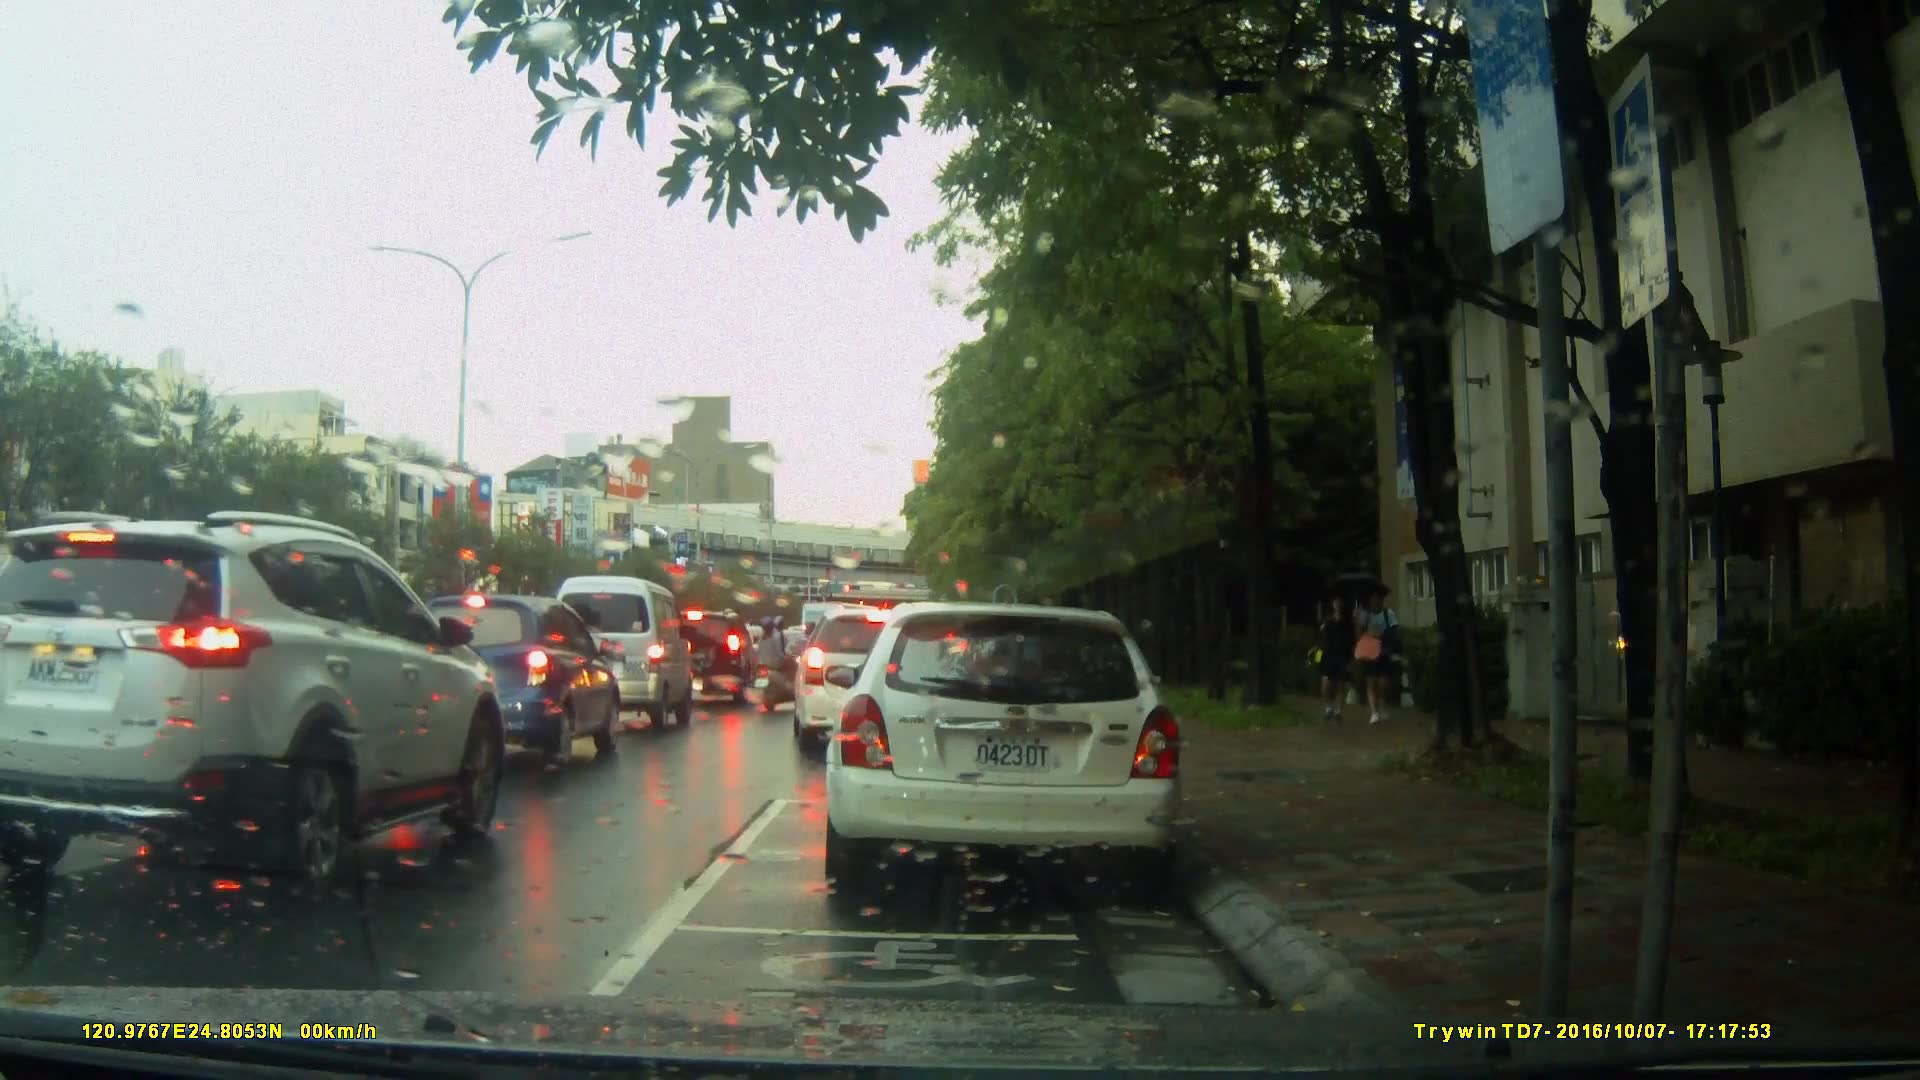pedestrian: (1290, 590, 1356, 726), (1349, 575, 1406, 729)
rider: (759, 610, 812, 712)
vehicle: (6, 507, 504, 902), (815, 593, 1204, 909), (388, 593, 623, 774), (542, 572, 695, 738), (793, 604, 957, 756), (650, 607, 763, 708)
